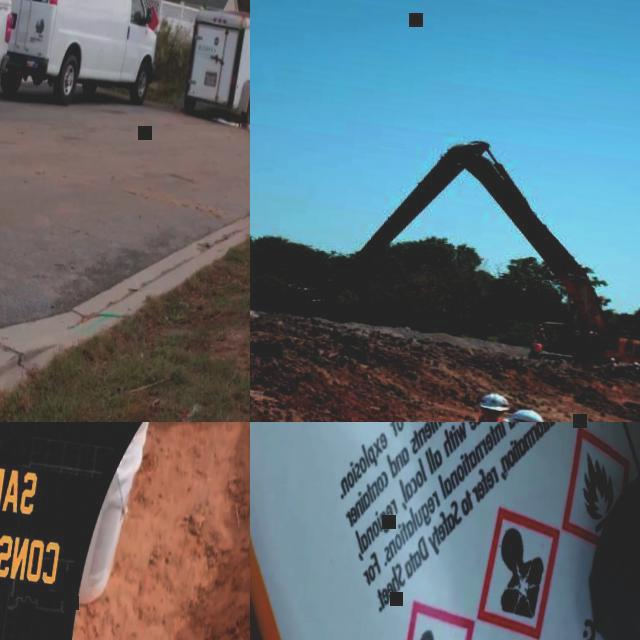helmet: (502, 405, 551, 422), (478, 392, 511, 412), (532, 339, 538, 342), (538, 324, 542, 326)
machinery: (278, 115, 640, 374)
no_mask: (479, 412, 501, 421)
person: (395, 382, 522, 422), (528, 338, 544, 360), (532, 322, 548, 343)
vehicle: (0, 0, 171, 120)
vest: (531, 342, 542, 352), (534, 326, 544, 335)
